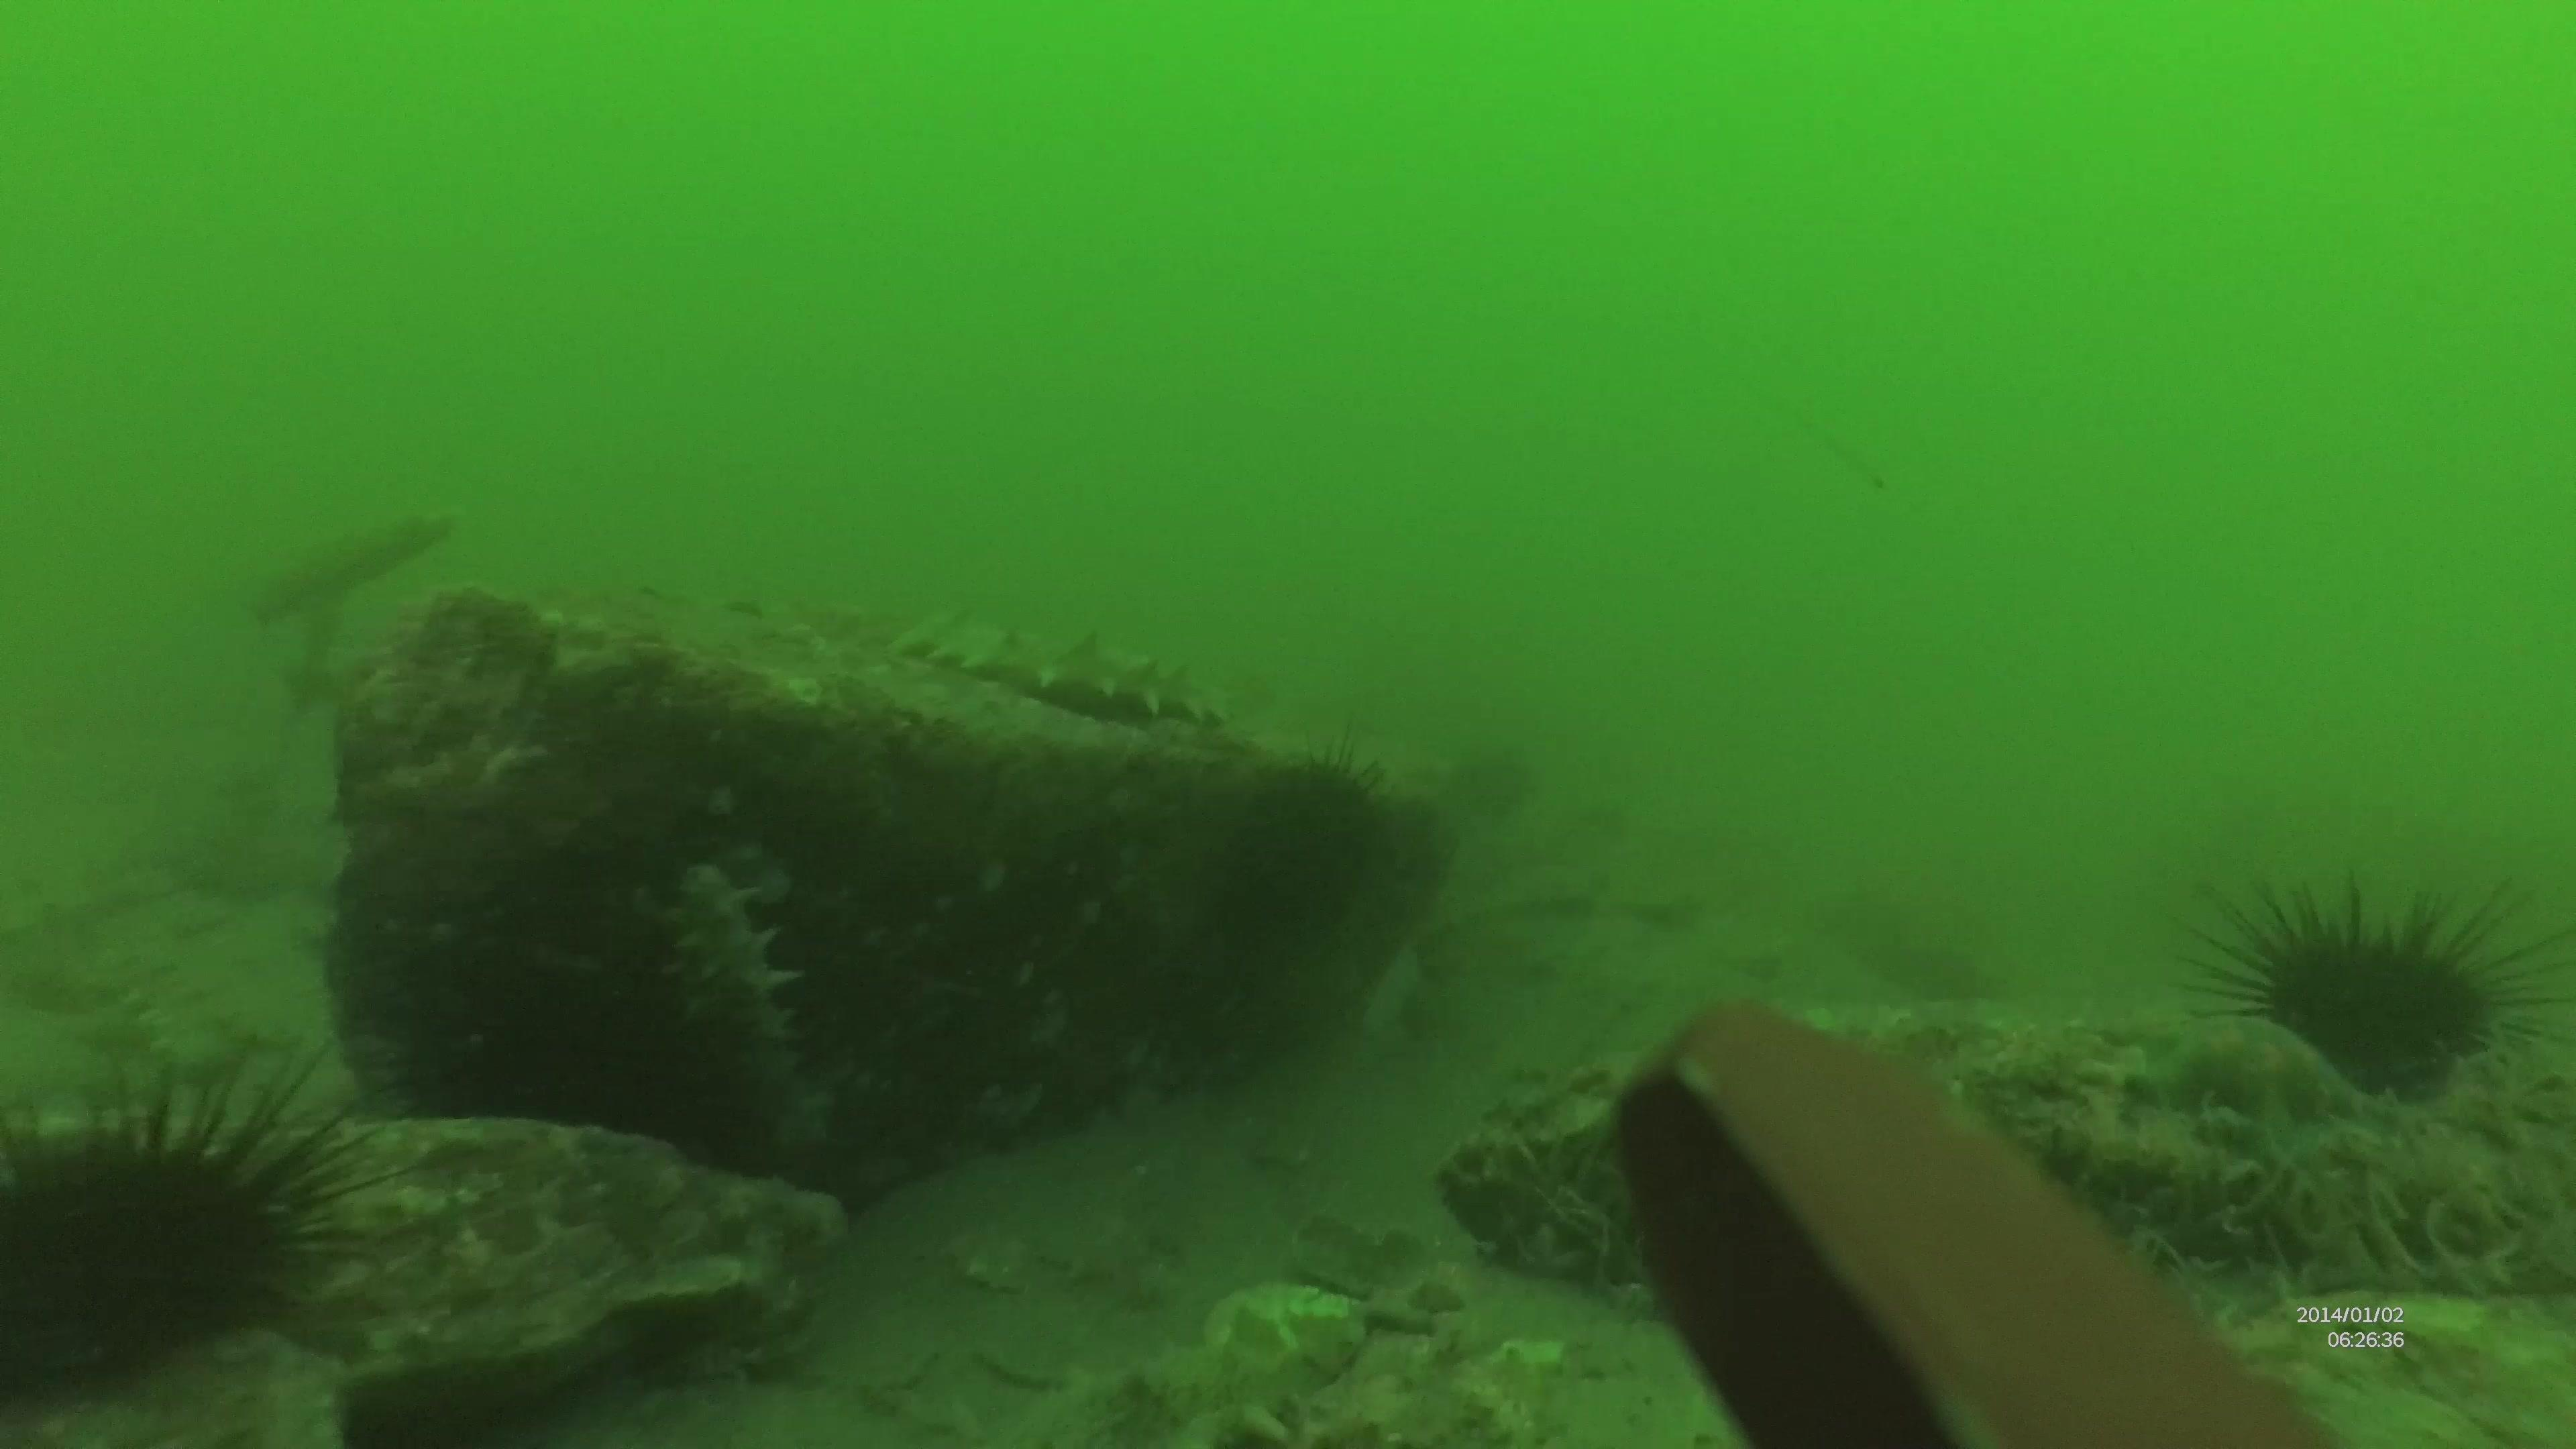echinus: (0, 1035, 410, 1417), (2174, 869, 2576, 1113), (1214, 725, 1394, 970)
holothurian: (655, 862, 826, 1196), (895, 602, 1233, 738)
